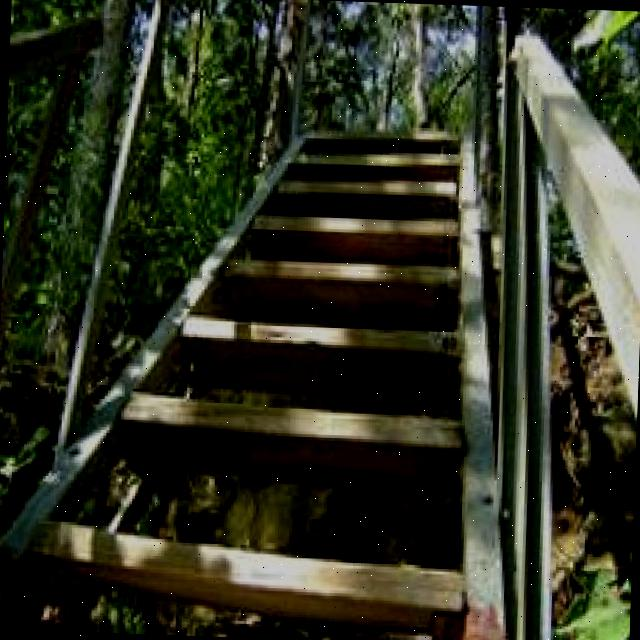stairs: (0, 110, 531, 640)
